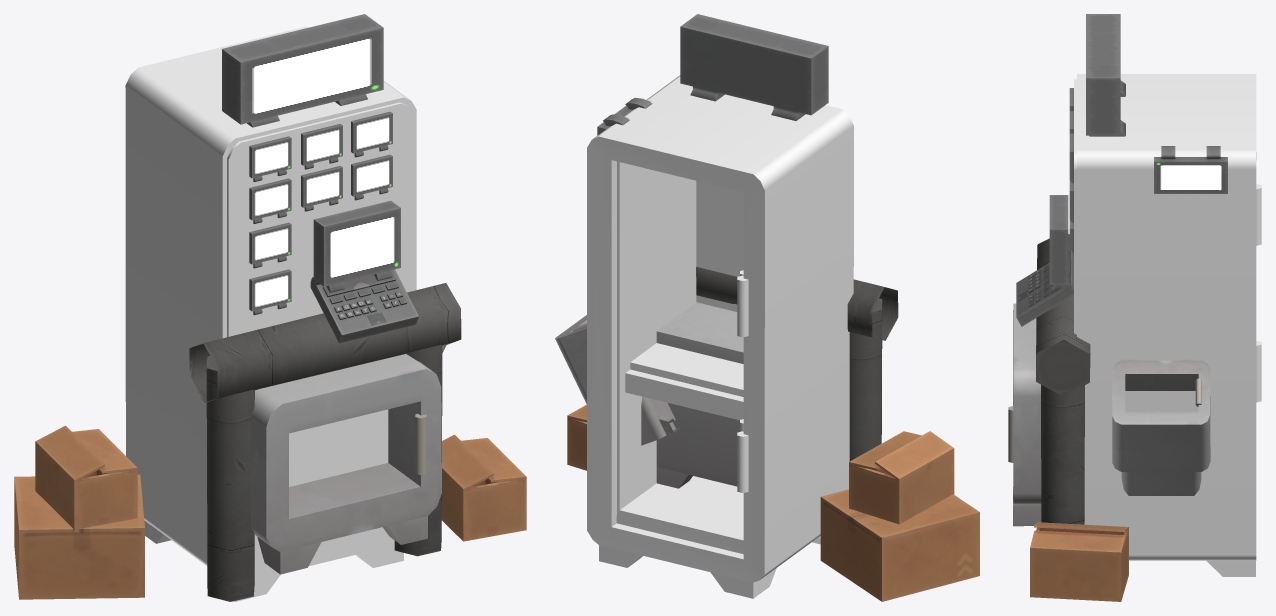
The model's file is SaleMachine.fbx.
The picture shows the model from 3 angles, left to right: view 1: azimuth 30°, elevation 25°; view 2: azimuth 150°, elevation 25°; view 3: azimuth 270°, elevation 25°; orthographic projection. The views are drawn at different scales.
Visible parts, largest first — view 1: Mat_Locker_SaleMachine, Mat_Locker_01_01, Mat_PaperBox_01_01, Mat_BarbedWire_01 2, Mat_Locker_SaleMachine 1, Mat_Computer_01_01, Mat_Computer_01_Green, Mat_Computer_01_02_2, Mat_Computer_01_01 _blue, Mat_Computer_01_01 _2; view 2: Mat_Locker_SaleMachine, Mat_Locker_SaleMachine 1, Mat_PaperBox_01_01, Mat_Locker_01_01, Mat_Computer_01_Green, Mat_BarbedWire_01 2, Mat_Computer_01_01 _2; view 3: Mat_Locker_SaleMachine, Mat_Locker_01_01, Mat_BarbedWire_01 2, Mat_PaperBox_01_01, Mat_Computer_01_Green, Mat_Computer_01_01, Mat_Computer_01_01 _2, Mat_Locker_SaleMachine 1.
Part boxes in pixels (<box>): Mat_Locker_SaleMachine: <box>125,26,416,601</box>; Mat_Locker_01_01: <box>251,345,446,574</box>; Mat_PaperBox_01_01: <box>14,425,526,599</box>; Mat_BarbedWire_01 2: <box>189,283,461,601</box>; Mat_Locker_SaleMachine 1: <box>227,102,413,581</box>; Mat_Computer_01_01: <box>249,124,418,343</box>; Mat_Computer_01_Green: <box>222,14,383,127</box>; Mat_Computer_01_02_2: <box>249,136,291,181</box>; Mat_Computer_01_01 _blue: <box>351,111,392,157</box>; Mat_Computer_01_01 _2: <box>301,166,342,211</box>; Mat_Locker_SaleMachine: <box>587,75,853,598</box>; Mat_Locker_SaleMachine 1: <box>616,161,743,554</box>; Mat_PaperBox_01_01: <box>567,404,979,601</box>; Mat_Locker_01_01: <box>555,302,743,488</box>; Mat_Computer_01_Green: <box>680,14,828,120</box>; Mat_BarbedWire_01 2: <box>696,267,898,461</box>; Mat_Computer_01_01 _2: <box>597,97,652,135</box>; Mat_Locker_SaleMachine: <box>1077,74,1261,576</box>; Mat_Locker_01_01: <box>1008,303,1210,526</box>; Mat_BarbedWire_01 2: <box>1036,234,1090,524</box>; Mat_PaperBox_01_01: <box>1030,522,1128,601</box>; Mat_Computer_01_Green: <box>1086,14,1125,136</box>; Mat_Computer_01_01: <box>1016,111,1073,326</box>; Mat_Computer_01_01 _2: <box>1154,146,1227,193</box>; Mat_Locker_SaleMachine 1: <box>1074,79,1076,334</box>.
Size of the model in its own units: 2.78 by 3.08 by 1.44.
Materials: 10 (10 with a texture image).
